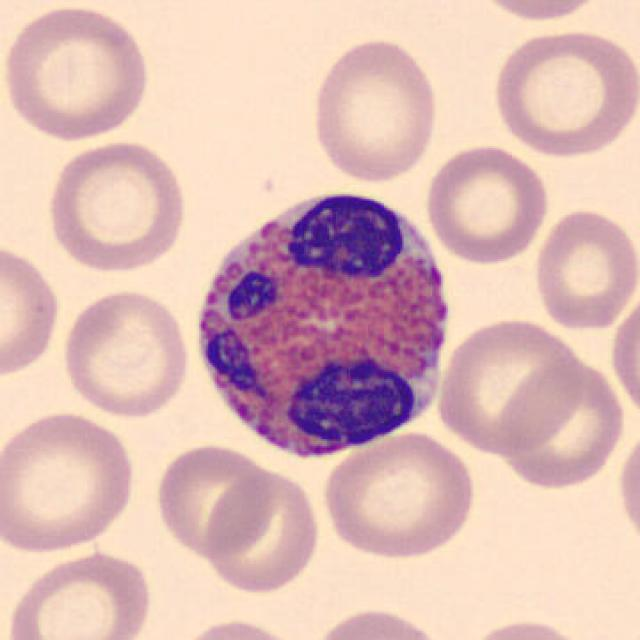Eosinophil: (183, 171, 464, 474)
RBC: (434, 314, 588, 456), (0, 2, 155, 143), (318, 426, 478, 560), (0, 407, 139, 557), (487, 24, 638, 160), (41, 138, 190, 275), (308, 35, 442, 185), (496, 354, 628, 492), (57, 286, 192, 420), (421, 141, 551, 266), (201, 465, 323, 596), (153, 439, 279, 561), (2, 548, 156, 640), (528, 205, 638, 333), (0, 236, 64, 383), (309, 604, 447, 640), (606, 286, 640, 423), (462, 0, 615, 25), (613, 419, 640, 554), (462, 615, 596, 640), (174, 615, 304, 640)
